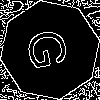G: (25, 25, 78, 72)
